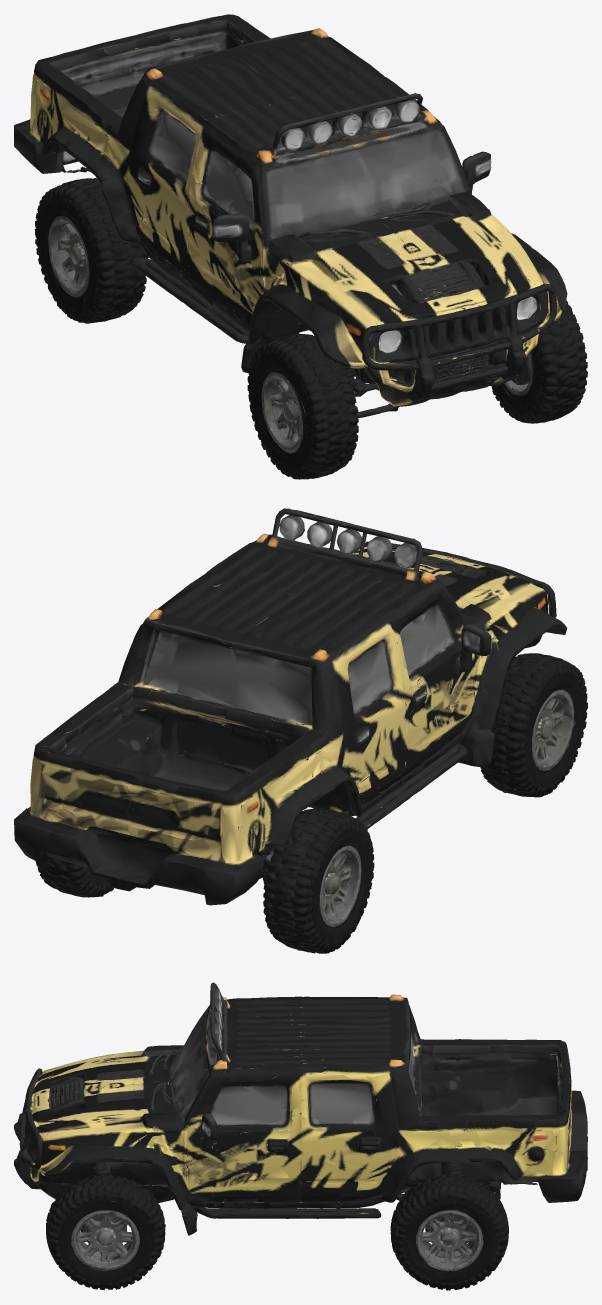
The model's file is summit-crawler.glb.
3 renders of one model, top to bottom at view 1: azimuth 30°, elevation 25°; view 2: azimuth 150°, elevation 25°; view 3: azimuth 270°, elevation 25°, orthographic. The views are drawn at different scales.
Visible parts, largest first — view 1: summit-crawler; view 2: summit-crawler; view 3: summit-crawler.
Boxes of the visible parts, <box> form: summit-crawler: <box>14,14,587,479</box>; summit-crawler: <box>14,508,587,953</box>; summit-crawler: <box>14,982,587,1290</box>.
Size of the model in its own units: 2.35 by 2.31 by 5.2.
1 material, 1 textured.
